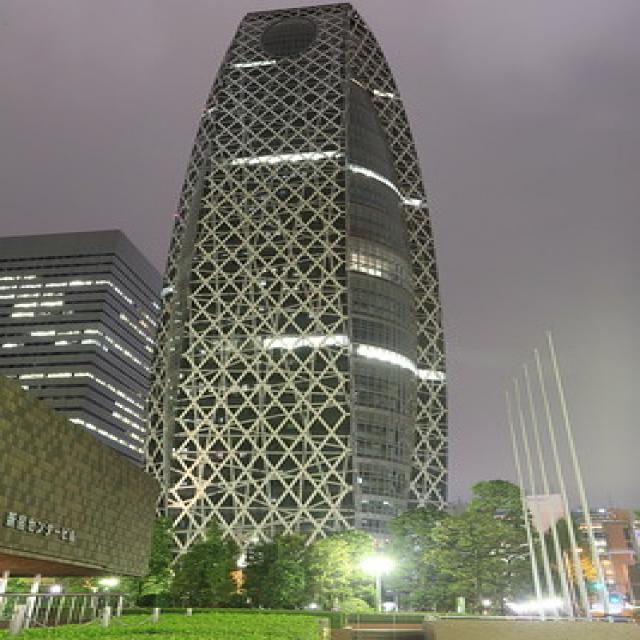Normal_building: (91, 0, 456, 616)
